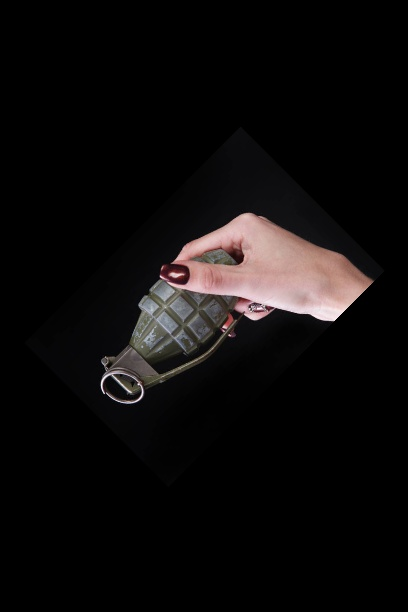e1: (92, 243, 244, 405)
